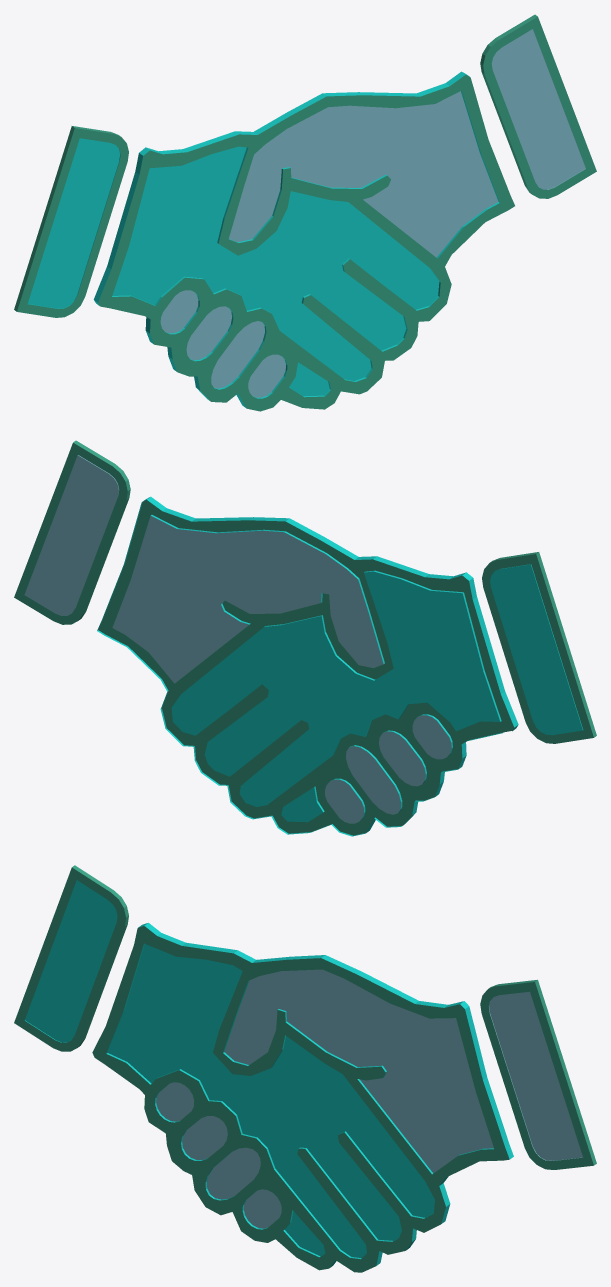
File: uploads_files_1911125_Low_poly_Handshake_symbol.fbx
The picture shows the model from 3 angles, top to bottom: view 1: azimuth 30°, elevation 25°; view 2: azimuth 150°, elevation 25°; view 3: azimuth 330°, elevation 25°; orthographic projection.
Visible parts, largest first — view 1: Handshake_symbol; view 2: Handshake_symbol; view 3: Handshake_symbol.
Boxes of the visible parts, x1=… form: Handshake_symbol: x1=14, y1=14, x2=596, y2=411; Handshake_symbol: x1=14, y1=440, x2=596, y2=836; Handshake_symbol: x1=14, y1=865, x2=596, y2=1272.
Bounding box in the file's own units: 883 × 497 × 12.33.
